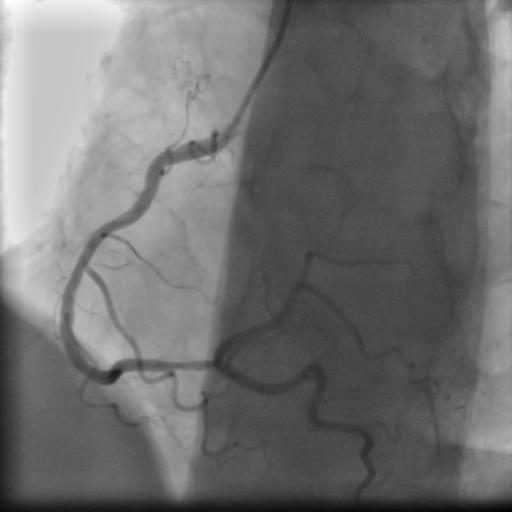Stenosis: (162, 352, 211, 377)
